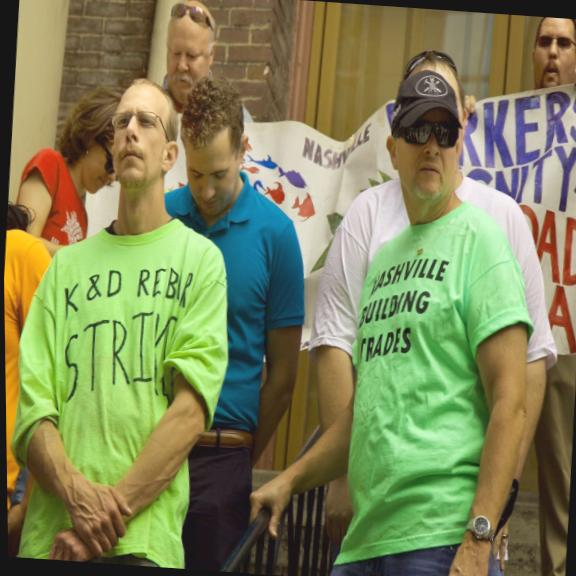no_safety_vest: (3, 205, 240, 571), (329, 204, 546, 558), (150, 176, 317, 442)
